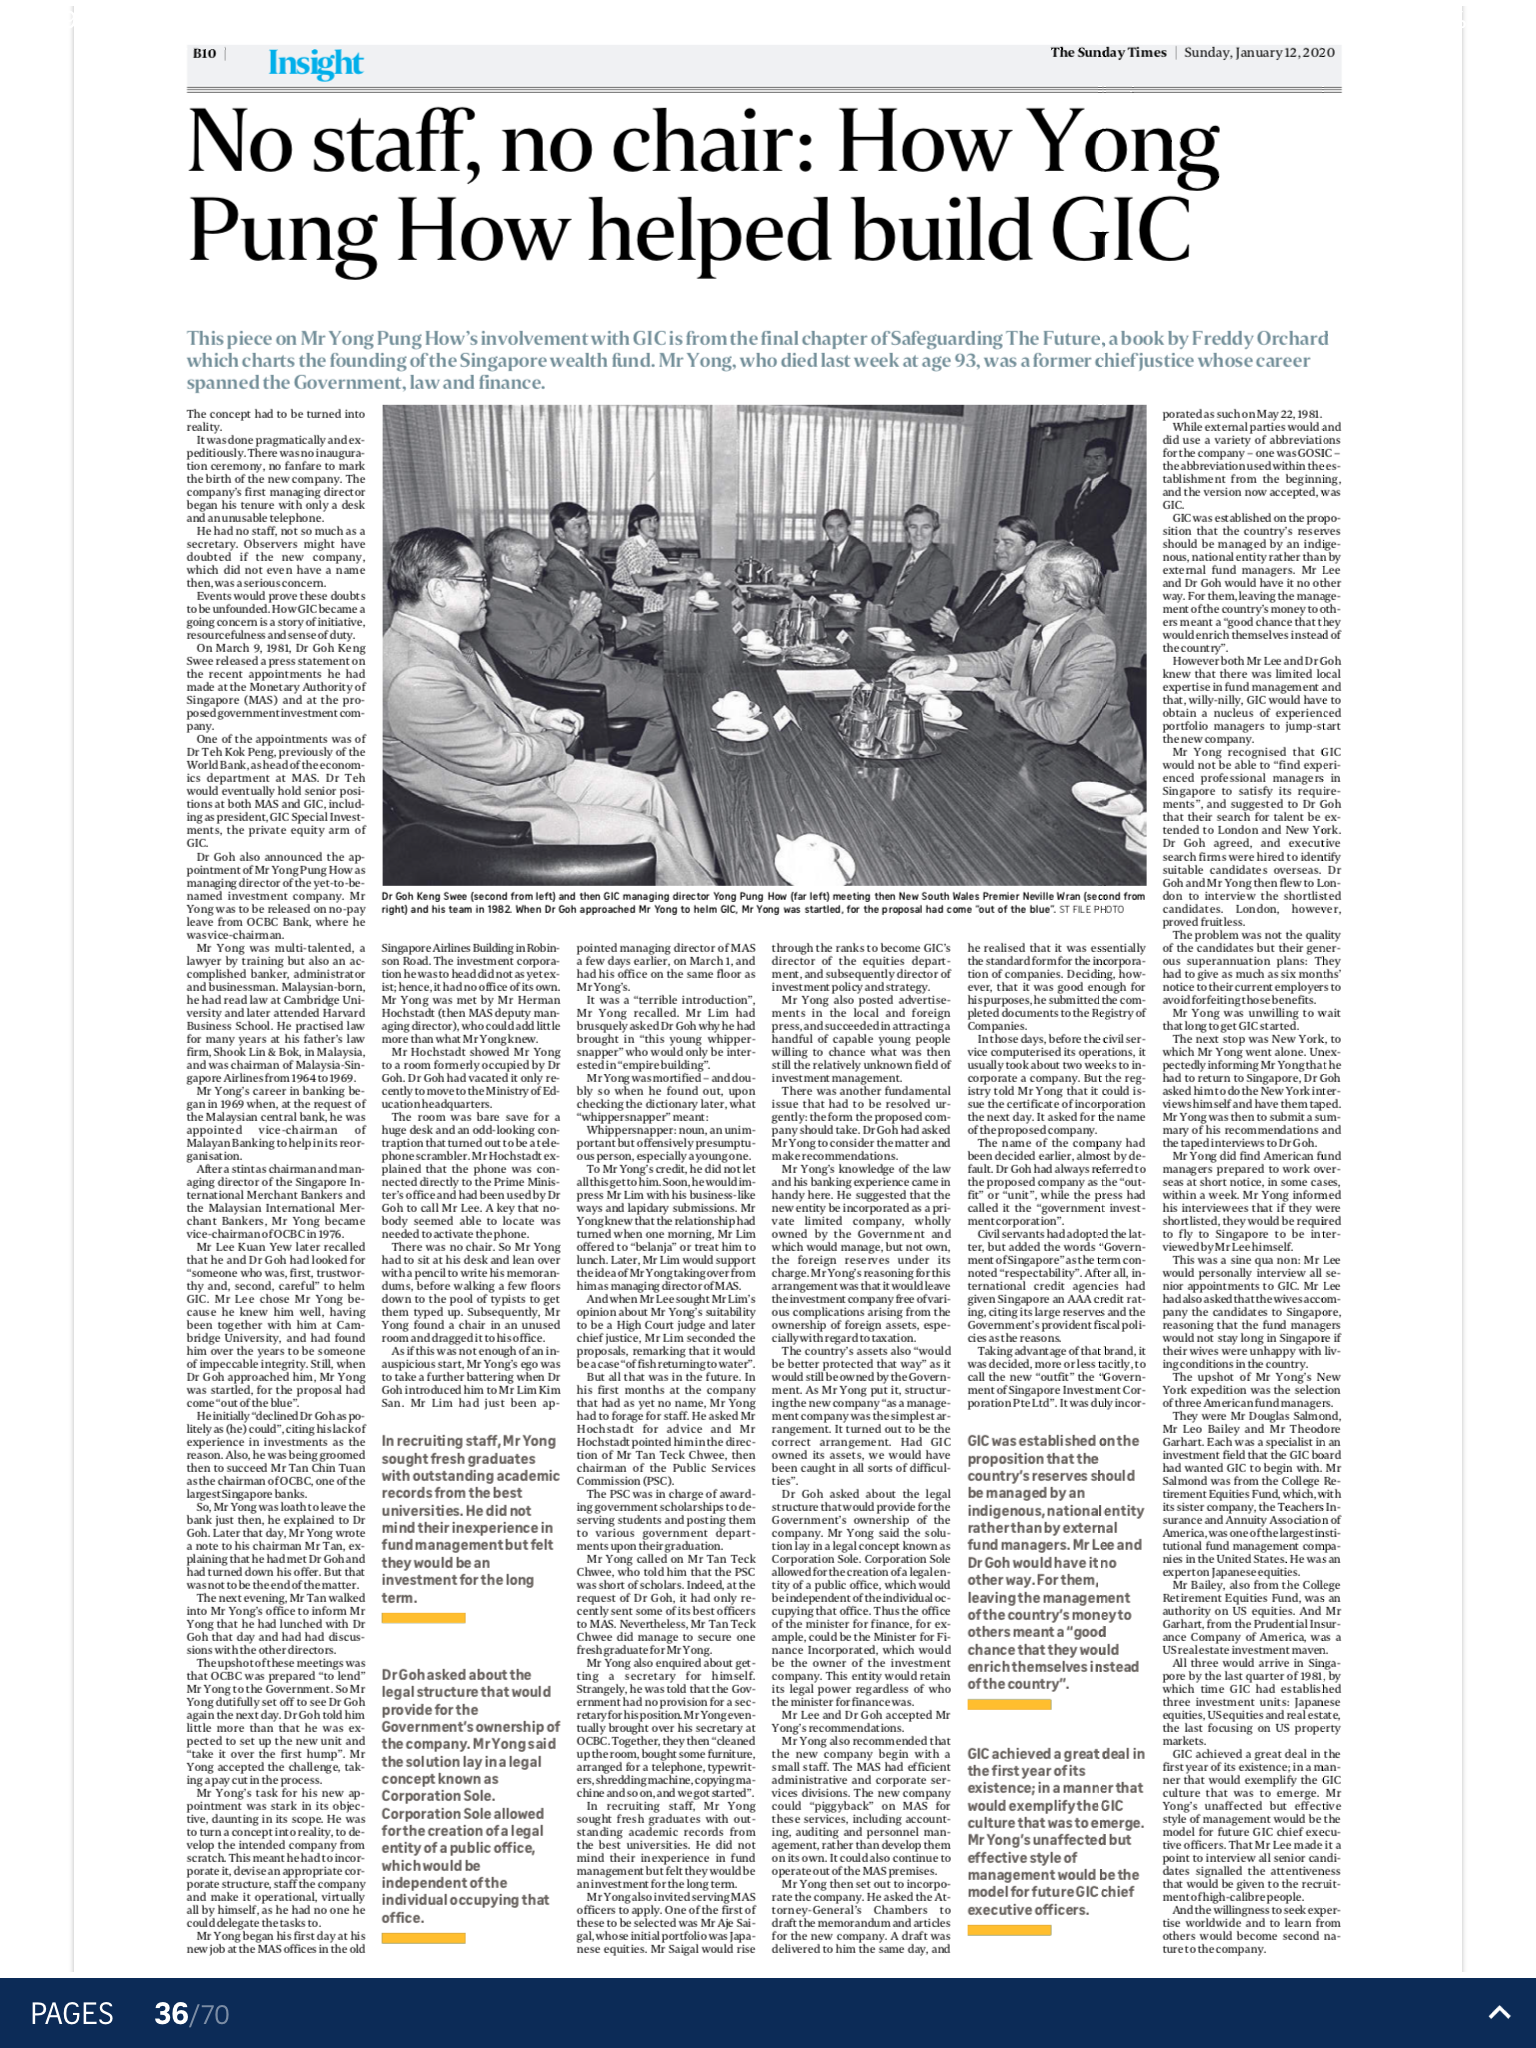Headline: (187, 103, 1226, 282)
Illustration: (381, 889, 1149, 916)
Text: (1158, 406, 1346, 1958), (186, 406, 369, 1958), (770, 939, 957, 1956), (573, 942, 760, 1958), (963, 940, 1149, 1413), (381, 940, 565, 1413), (189, 327, 1331, 392), (378, 1666, 561, 1927), (966, 1432, 1146, 1692), (378, 1429, 561, 1608), (966, 1742, 1149, 1919)
